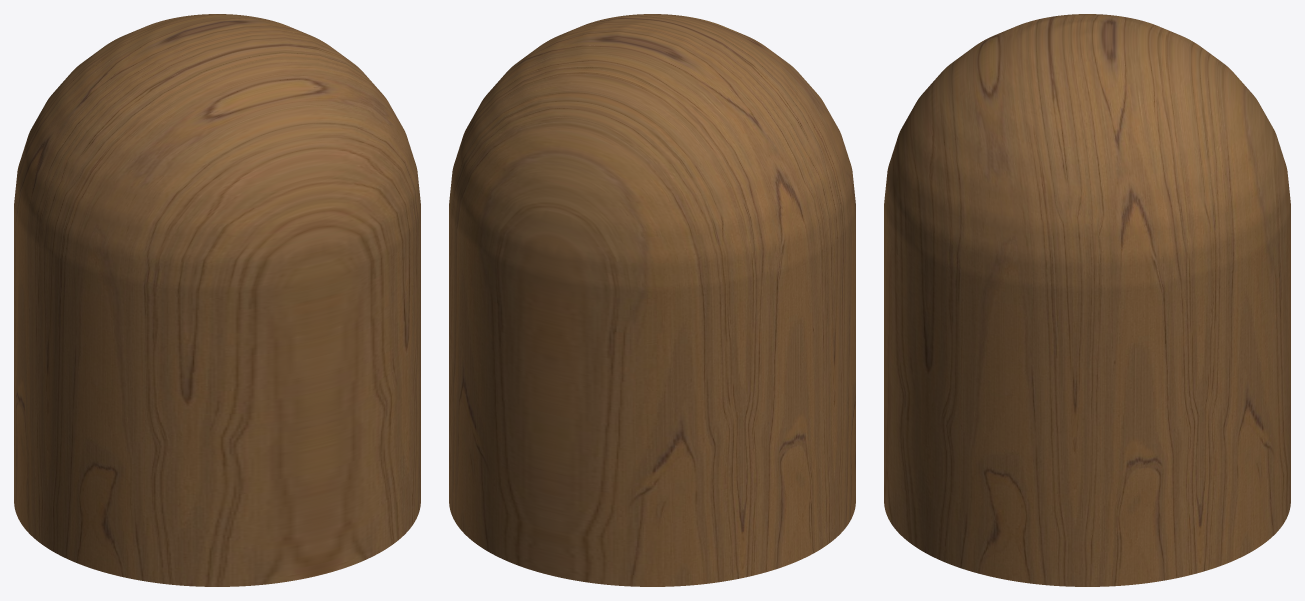
Rendered from head_proxy.glb.
3 renders of one model, left to right at view 1: azimuth 30°, elevation 25°; view 2: azimuth 150°, elevation 25°; view 3: azimuth 270°, elevation 25°, orthographic.
Size of the model in its own units: 0.15 by 0.19 by 0.15.
Materials: 1 (1 with a texture image).
